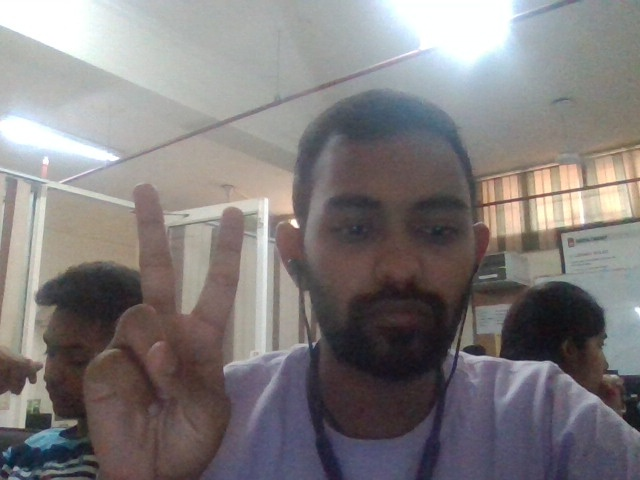ThankYou: (82, 182, 247, 478)
